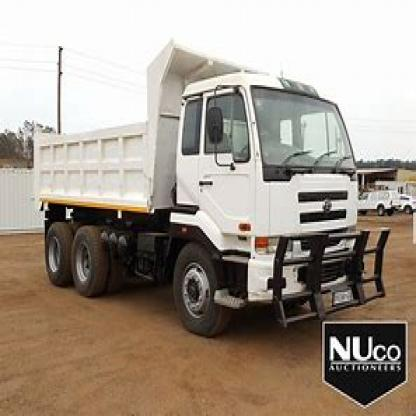dump_truck: (25, 33, 388, 346)
